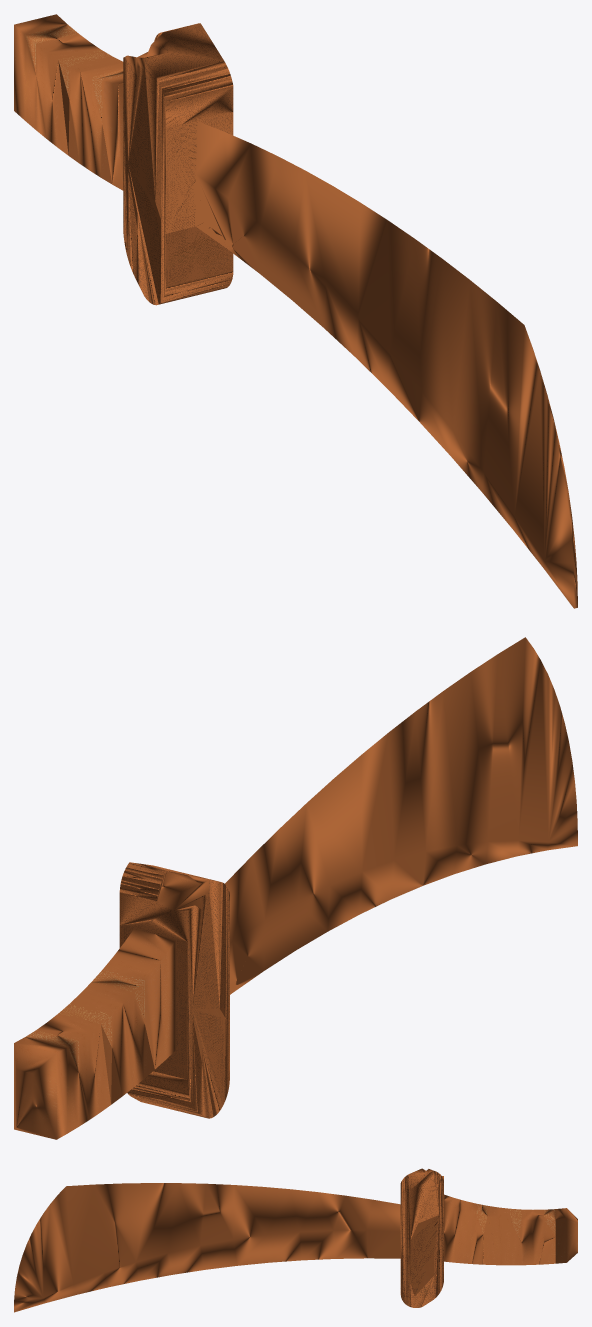
File: model_align.obj
3 views of the same model, one above another, from view 1: azimuth 30°, elevation 25°; view 2: azimuth 150°, elevation 25°; view 3: azimuth 270°, elevation 25° (orthographic). The views are drawn at different scales.
Bounding box in the file's own units: 0.0163 × 0.0631 × 0.2291.
Materials: 4 (4 with a texture image).
